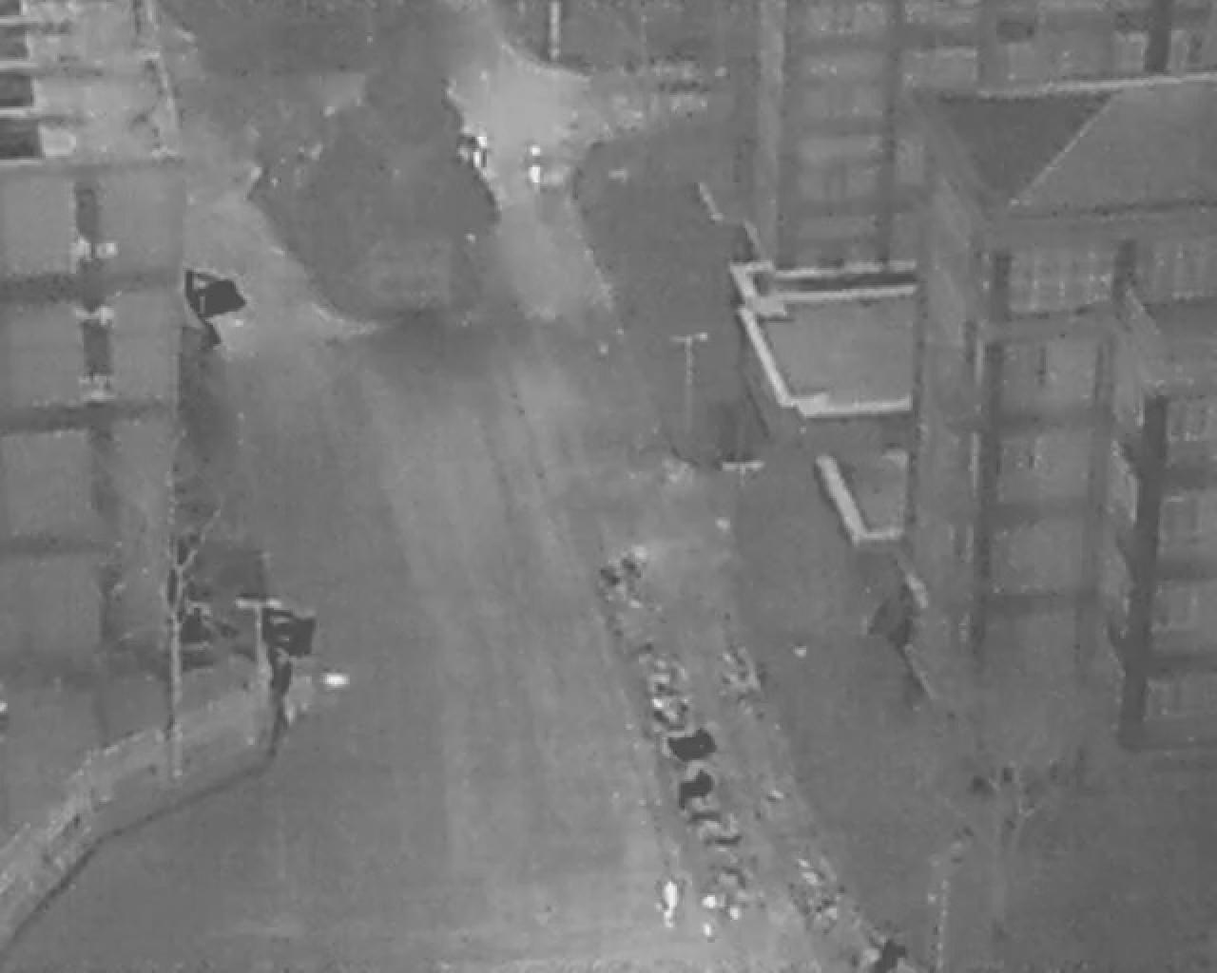person: (659, 881, 680, 928), (526, 145, 549, 185), (473, 132, 493, 170)
